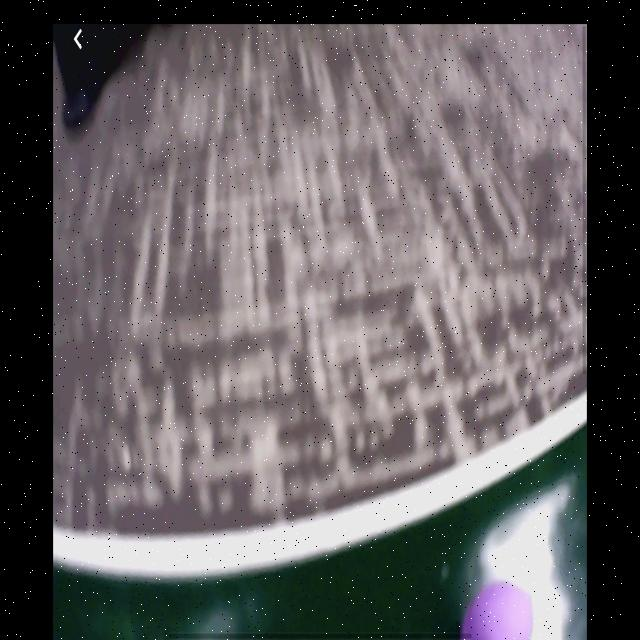ball: (460, 581, 535, 640)
